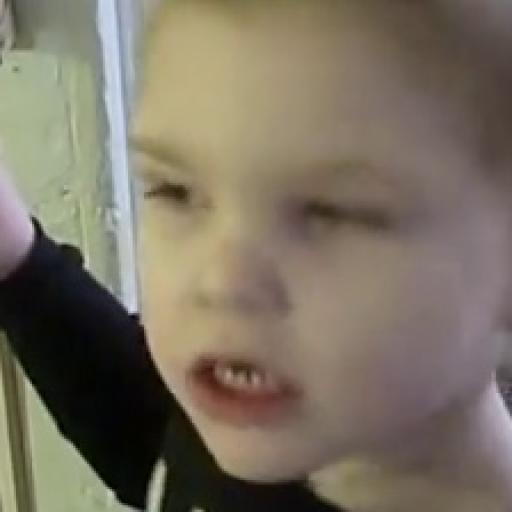Autism: (97, 1, 512, 511)
